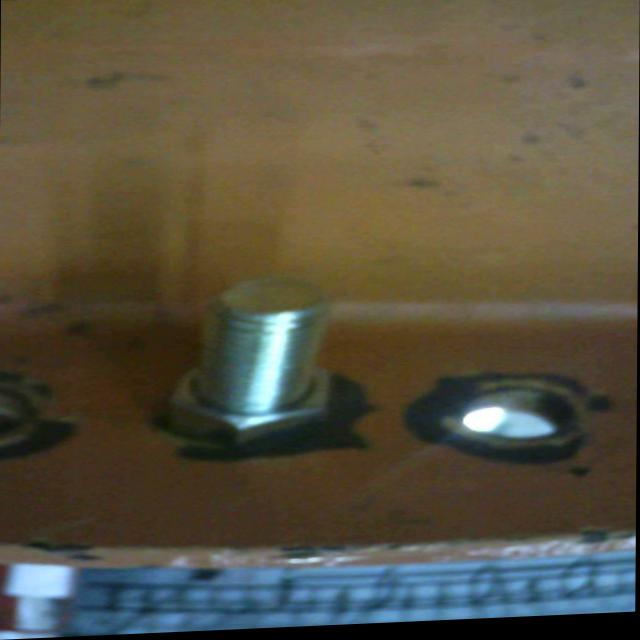Missing bolt: (457, 385, 579, 454)
Regular bolt: (171, 276, 338, 450)
